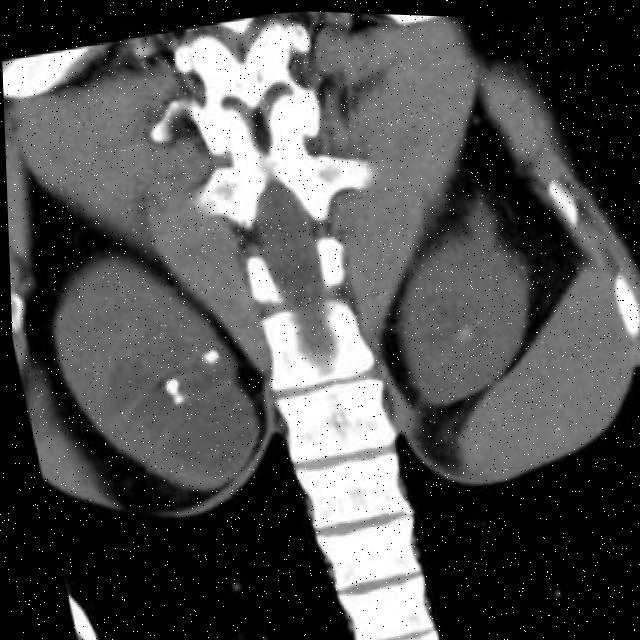Tas_Var: (155, 375, 179, 395), (197, 344, 218, 363), (165, 391, 179, 404)
